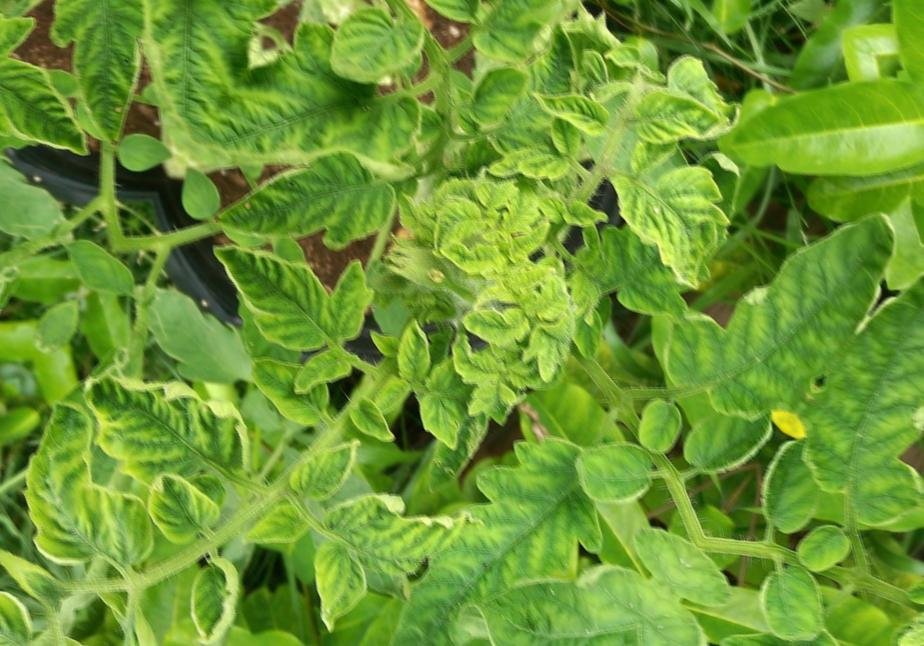Tomato leaf yellow virus: (624, 141, 924, 460), (188, 0, 477, 270), (344, 400, 638, 646), (158, 170, 422, 430), (701, 4, 924, 262), (0, 360, 208, 608), (49, 317, 280, 530), (216, 106, 421, 316), (444, 491, 673, 646), (286, 446, 473, 631), (584, 122, 760, 295), (377, 0, 674, 102), (107, 544, 332, 646), (298, 0, 459, 125), (159, 546, 265, 646), (276, 418, 376, 523), (526, 66, 622, 154), (486, 125, 573, 211), (450, 282, 539, 366), (412, 182, 496, 270), (376, 313, 452, 394), (334, 387, 409, 455)
